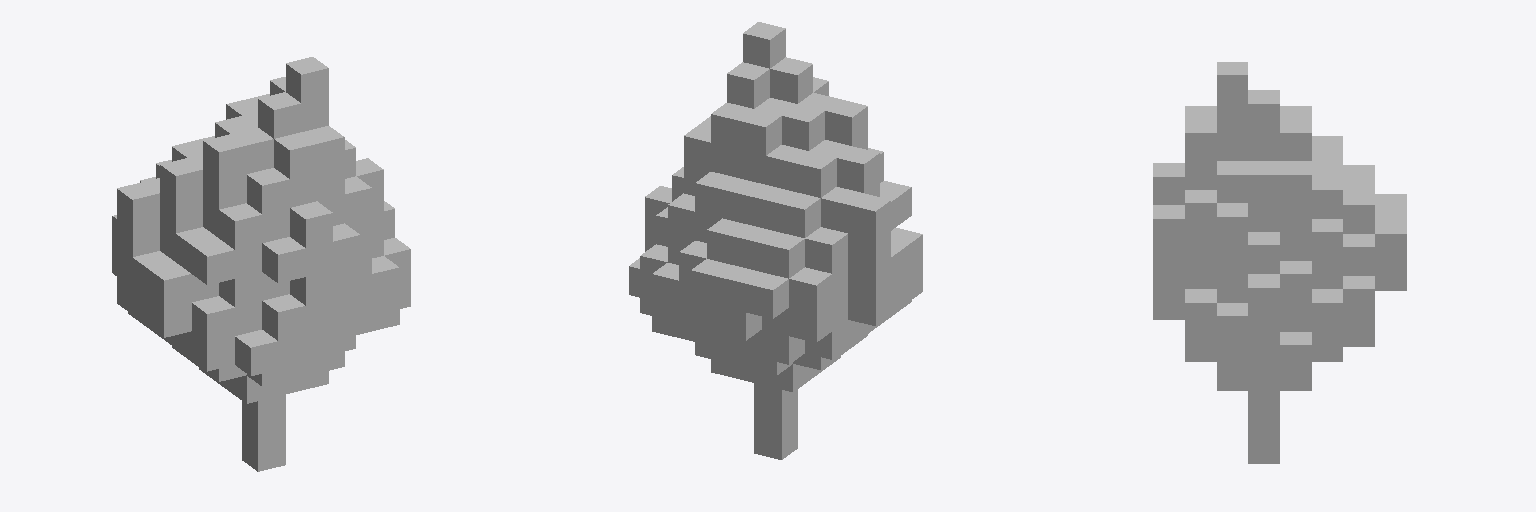
Rendered from tree02.obj.
The picture shows the model from 3 angles: view 1: azimuth 30°, elevation 25°; view 2: azimuth 150°, elevation 25°; view 3: azimuth 270°, elevation 25°; orthographic projection.
Visible parts, largest first — view 1: object 1; view 2: object 1; view 3: object 1.
Boxes of the visible parts, box(x1,y1,x2,y2) form: object 1: box(112, 57, 410, 471); object 1: box(629, 22, 922, 459); object 1: box(1153, 62, 1406, 463).
Bounding box in the file's own units: 0.9 × 1.4 × 0.8.